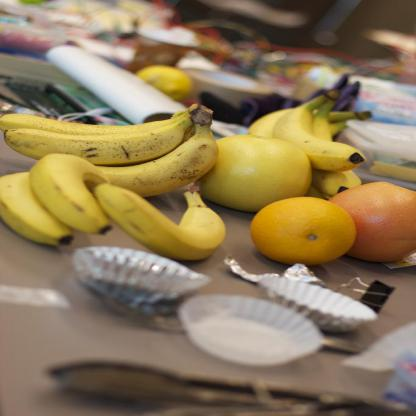Banana: (0, 102, 230, 260), (252, 113, 374, 199), (274, 93, 367, 173), (316, 100, 360, 196)
